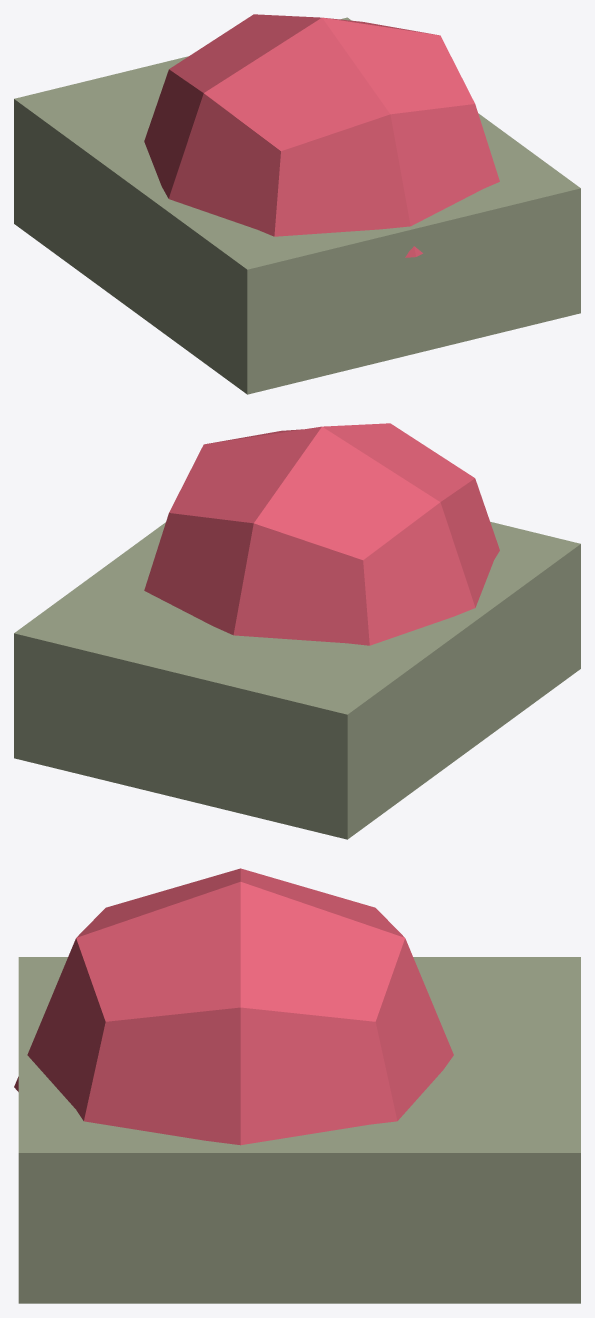
The model's file is button.glb.
3 views of the same model, one above another, from view 1: azimuth 30°, elevation 25°; view 2: azimuth 150°, elevation 25°; view 3: azimuth 270°, elevation 25° (orthographic). The views are drawn at different scales.
Parts seen in each view (by area): view 1: Cube.009; view 2: Cube.009; view 3: Cube.009.
Boxes of the visible parts, x1=… form: Cube.009: x1=14, y1=14, x2=580, y2=394; Cube.009: x1=14, y1=423, x2=580, y2=839; Cube.009: x1=14, y1=868, x2=580, y2=1303.
Bounding box in the file's own units: 0.0826 × 0.0637 × 0.101.
